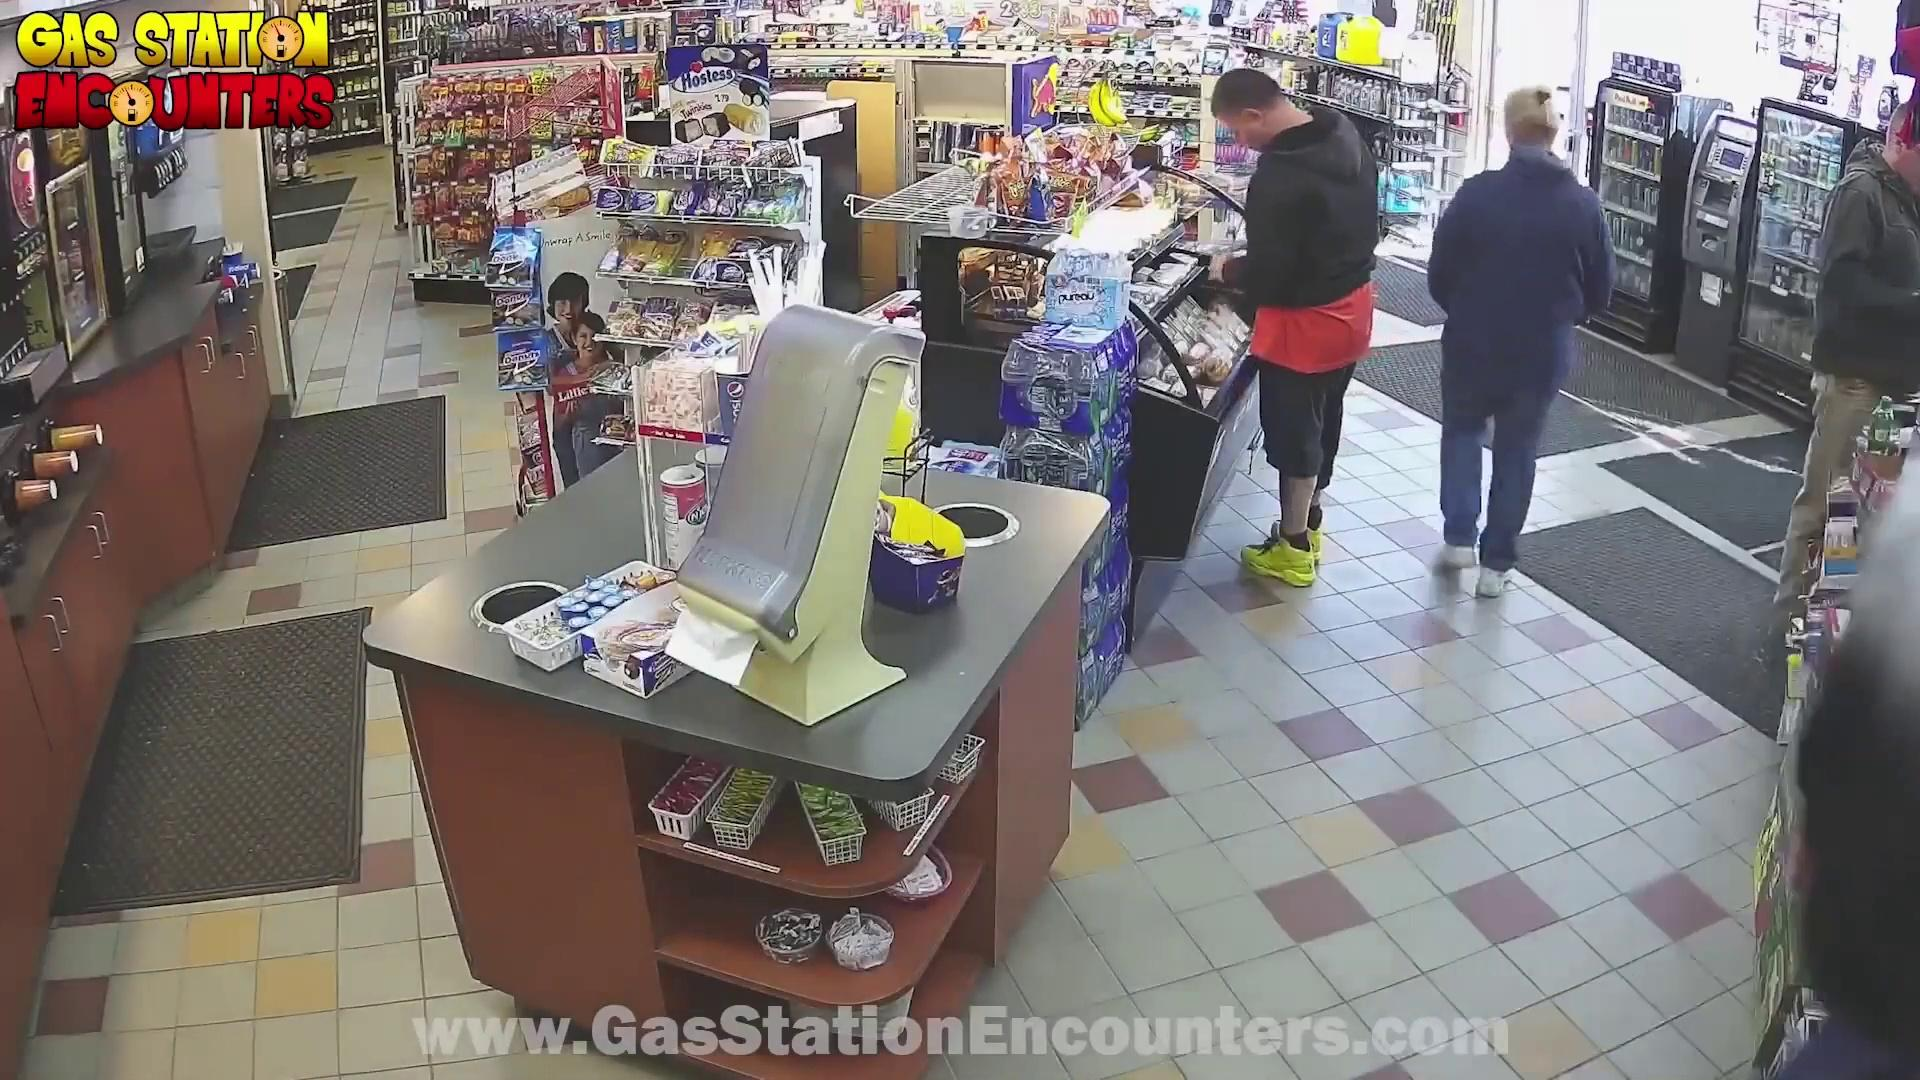Product: (1195, 240, 1249, 294)
Product-Picked: (1158, 59, 1412, 632)
Regular: (1402, 79, 1633, 646), (1803, 70, 1920, 430)
